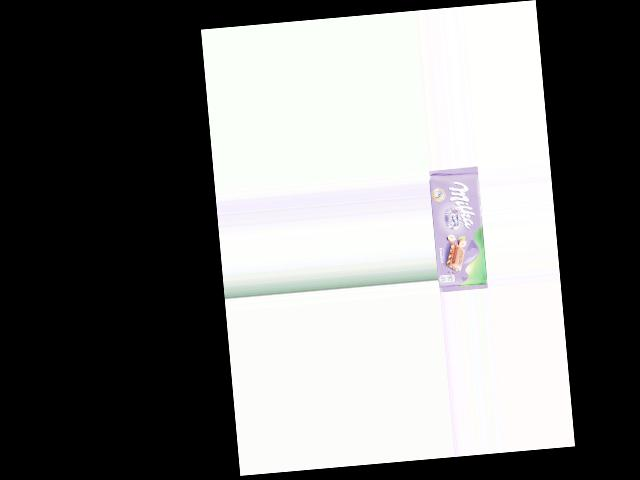chocolate: (427, 166, 488, 293)
